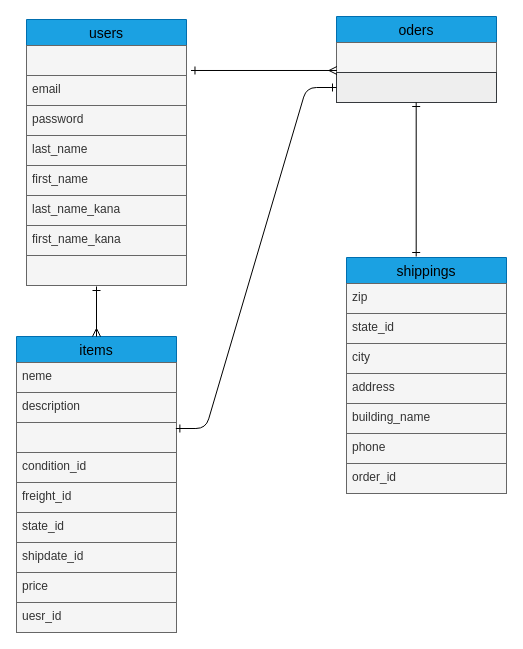
The diagram is 523 pixels wide and 649 high, and some of its shapes have lost their labels. The centre of each missing label's shape, as x and y in pixels:
birth: point (106, 270)
category_id: point (96, 437)
nickname: point (106, 60)
puroducut_id: point (416, 57)
user_id: point (416, 87)
